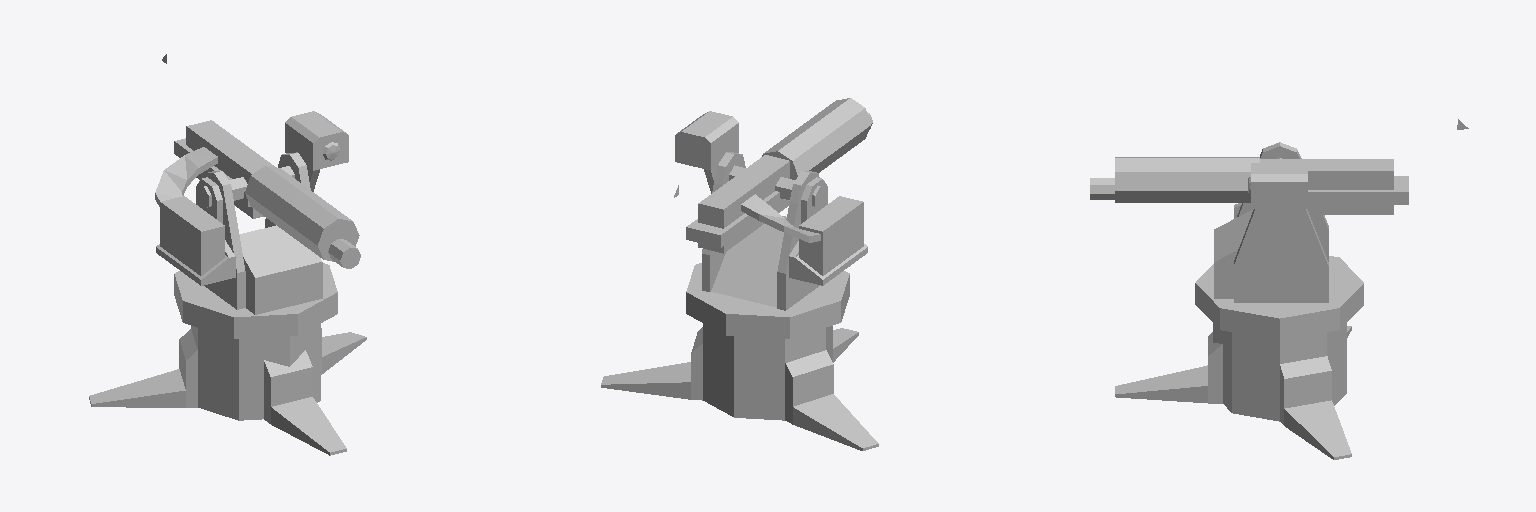
Rendered from low_poly_gun_turret.obj.
The picture shows the model from 3 angles: view 1: azimuth 30°, elevation 25°; view 2: azimuth 150°, elevation 25°; view 3: azimuth 270°, elevation 25°; orthographic projection.
Visible parts, largest first — view 1: obj1, Turret Base, obj2; view 2: obj1, Turret Base, obj2; view 3: obj2, obj1, Turret Base.
Boxes of the visible parts, box(x1,y1,x2,y2) form: obj1: box(155, 54, 360, 285); Turret Base: box(89, 324, 366, 455); obj2: box(174, 152, 337, 338); obj1: box(674, 98, 872, 285); Turret Base: box(601, 323, 878, 450); obj2: box(686, 152, 849, 338); obj2: box(1195, 142, 1363, 340); obj1: box(1090, 119, 1468, 225); Turret Base: box(1115, 323, 1351, 459).
Bounding box in the file's own units: 131 × 125 × 156.